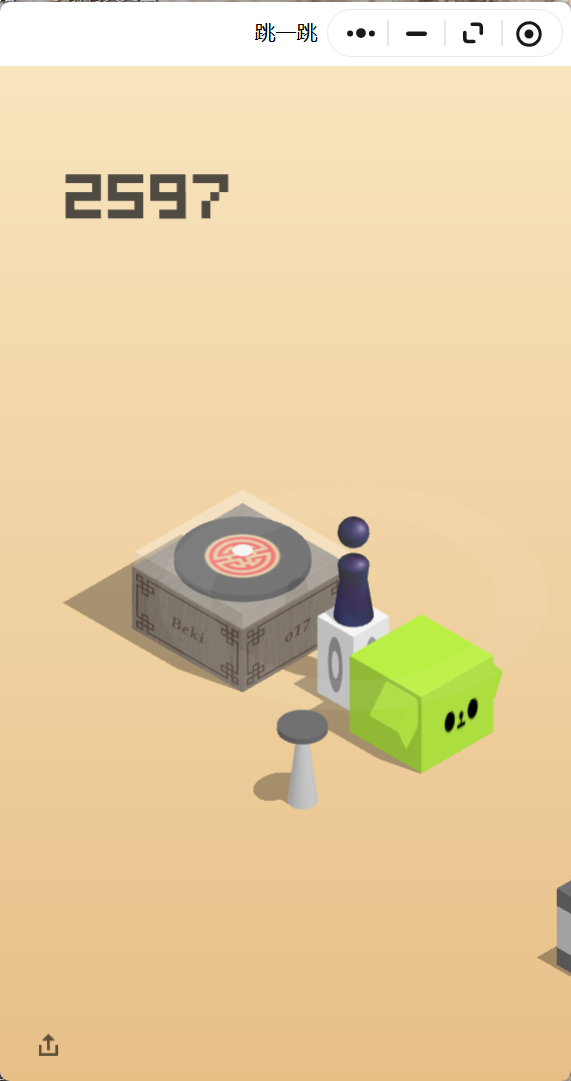piece: (337, 516, 369, 622)
target: (138, 490, 348, 614)
